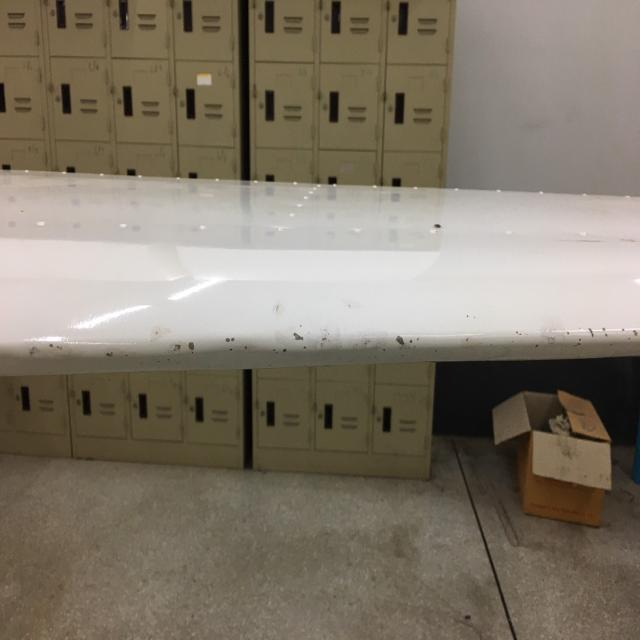Rupture: (20, 313, 640, 366)
